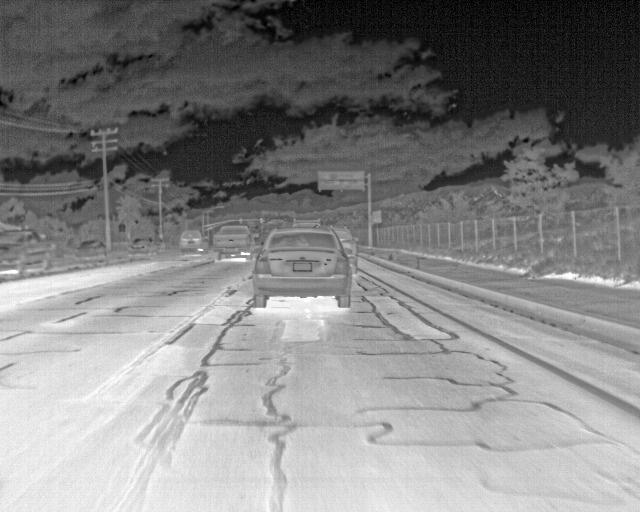car: (255, 226, 351, 305), (1, 228, 56, 273), (212, 224, 254, 259), (329, 226, 358, 271), (177, 229, 206, 251), (289, 217, 321, 233), (77, 239, 106, 256), (131, 237, 157, 253)
